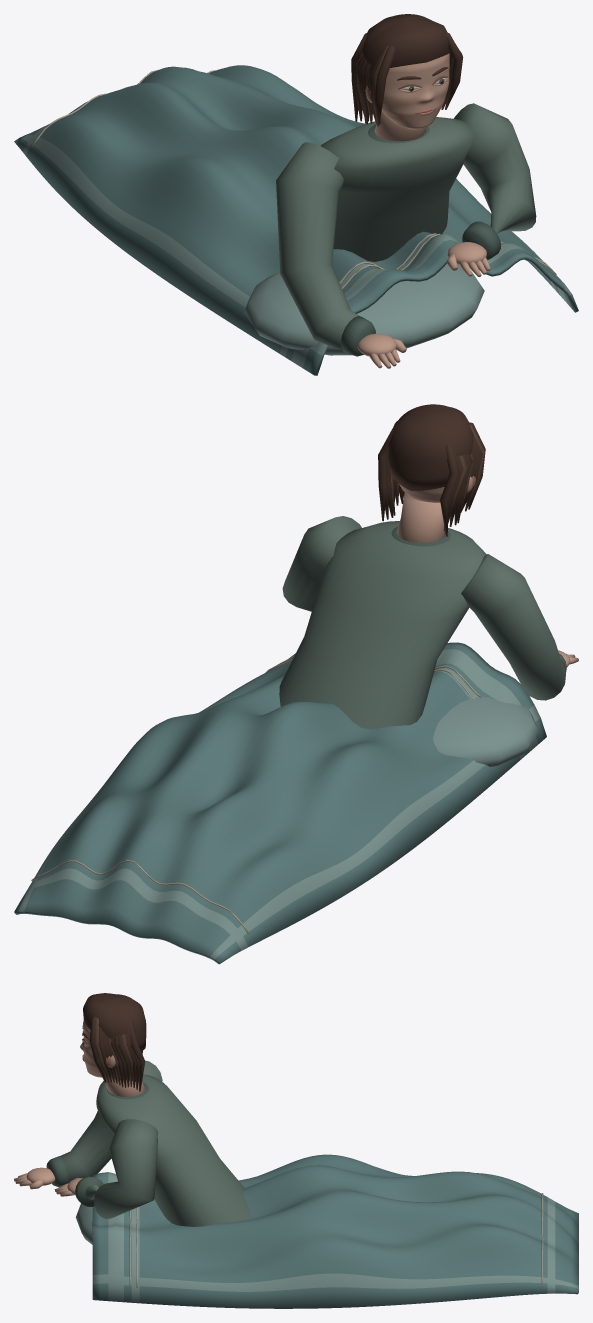
The model's file is HERO-11_rita.glb.
3 renders of one model, top to bottom at view 1: azimuth 30°, elevation 25°; view 2: azimuth 150°, elevation 25°; view 3: azimuth 270°, elevation 25°, orthographic. The views are drawn at different scales.
Parts seen in each view (by area): view 1: Ріта · Овальна база; view 2: Ріта · Овальна база; view 3: Ріта · Овальна база.
Boxes of the visible parts, left/top/right/bottom form: Ріта · Овальна база: left=14, top=14, right=578, bottom=375; Ріта · Овальна база: left=14, top=404, right=578, bottom=964; Ріта · Овальна база: left=14, top=993, right=578, bottom=1308.
Bounding box in the file's own units: 0.6761 × 0.6862 × 1.41.
